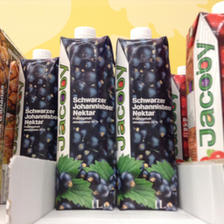juice: (115, 29, 181, 212), (58, 26, 116, 210), (12, 47, 58, 160)
